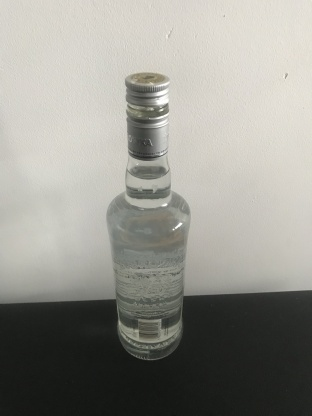nakretka: (123, 71, 171, 161)
